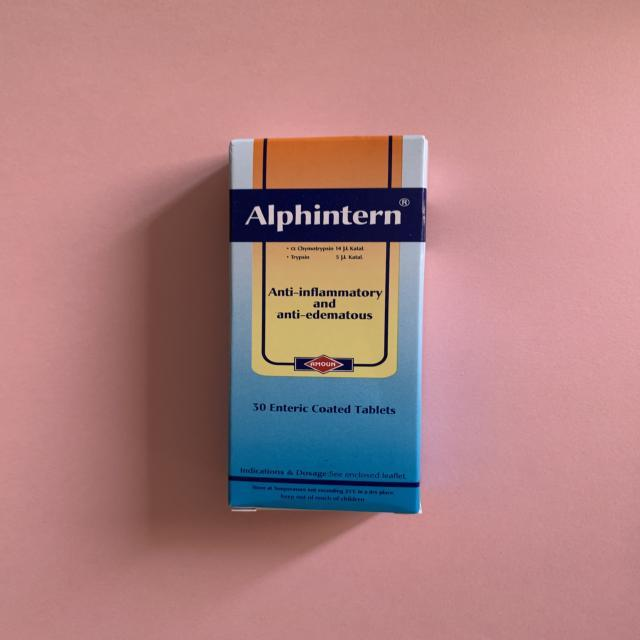Medicine Name: (238, 199, 401, 238)
